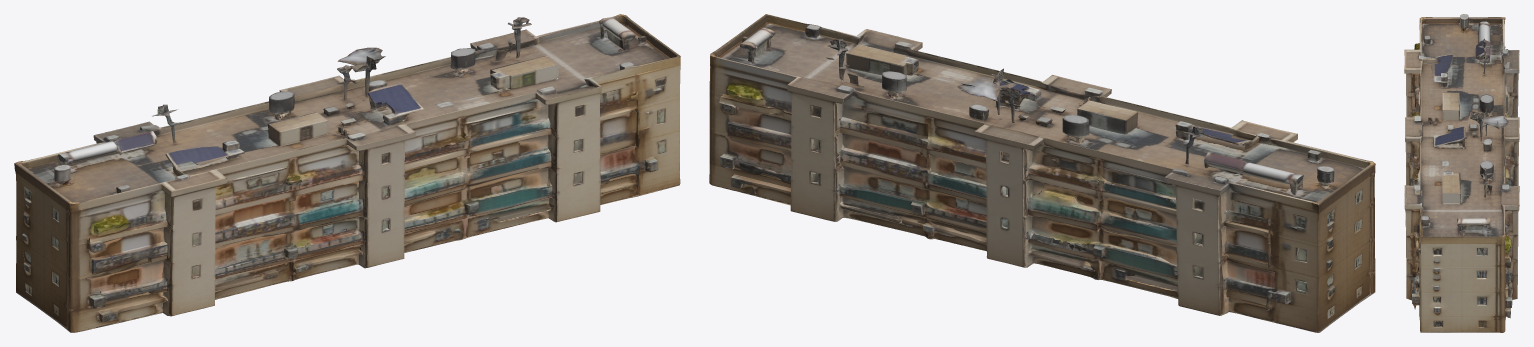
The model's file is r3_devtown_c.glb.
3 views of the same model, side by side, from view 1: azimuth 30°, elevation 25°; view 2: azimuth 150°, elevation 25°; view 3: azimuth 270°, elevation 25° (orthographic). The views are drawn at different scales.
Visible parts, largest first — view 1: geometry_0; view 2: geometry_0; view 3: geometry_0.
Part boxes in pixels (x1,y1,x2,y2): geometry_0: (14,14,680,332); geometry_0: (709,14,1375,332); geometry_0: (1404,14,1519,332).
Bounding box in the file's own units: 50 × 13 × 11.
Materials: 1 (1 with a texture image).
